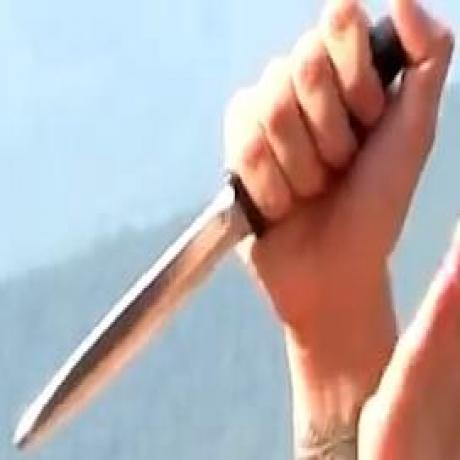1: (219, 0, 460, 460)
weapon: (9, 172, 262, 452)
